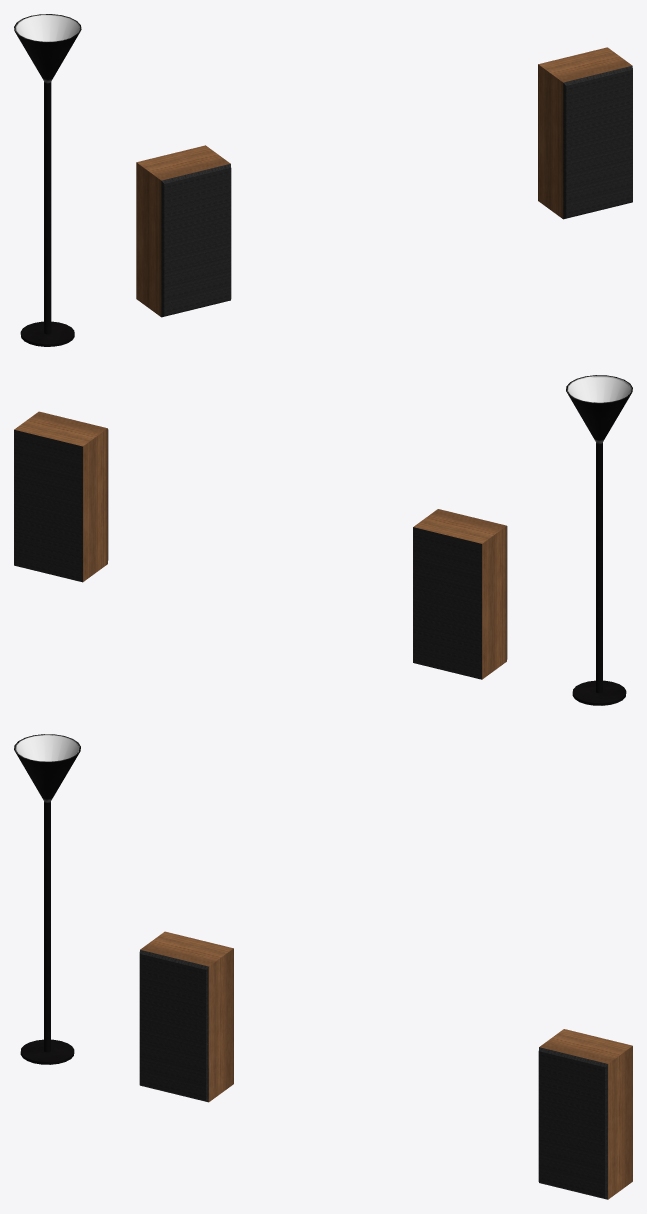
Rendered from speakers.fbx.
3 views of the same model, one above another, from view 1: azimuth 30°, elevation 25°; view 2: azimuth 150°, elevation 25°; view 3: azimuth 330°, elevation 25° (orthographic).
Parts seen in each view (by area): view 1: Cube.004; view 2: Cube.004; view 3: Cube.004.
Boxes of the visible parts, left/top/right/bottom form: Cube.004: left=14, top=14, right=632, bottom=346; Cube.004: left=14, top=375, right=632, bottom=705; Cube.004: left=14, top=734, right=632, bottom=1199.
Bounding box in the file's own units: 424 × 206 × 41.25.
